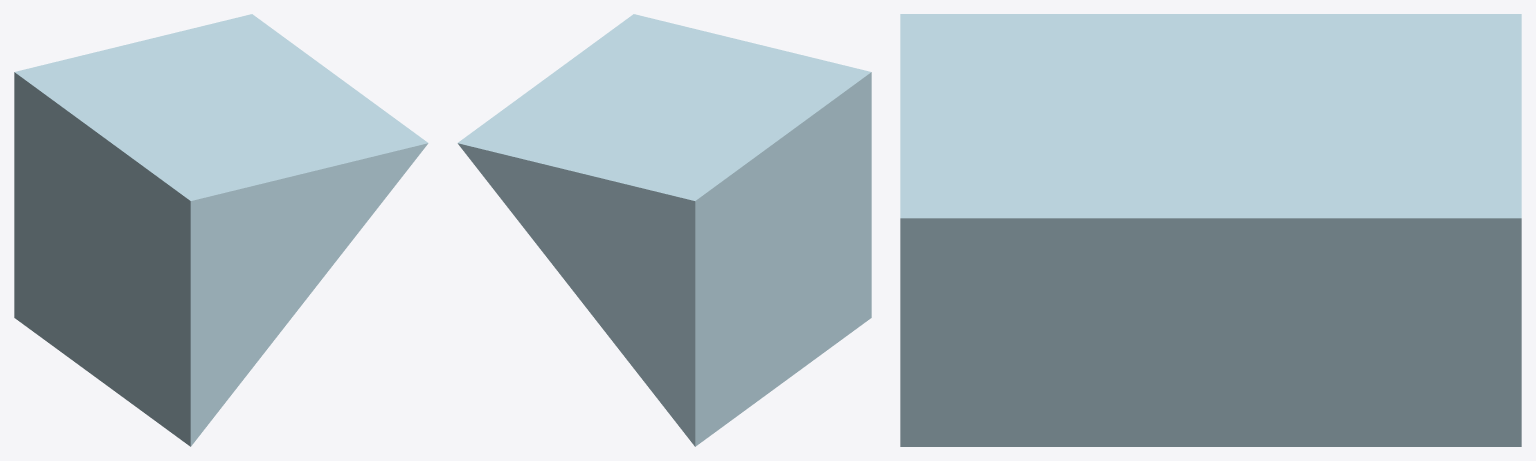
The model's file is Filler.fbx.
The picture shows the model from 3 angles, left to right: view 1: azimuth 30°, elevation 25°; view 2: azimuth 150°, elevation 25°; view 3: azimuth 270°, elevation 25°; orthographic projection. The views are drawn at different scales.
Parts seen in each view (by area): view 1: root; view 2: root; view 3: root.
Part boxes in pixels (bbox=[...]): root: bbox=[14, 14, 428, 446]; root: bbox=[457, 14, 871, 446]; root: bbox=[900, 14, 1521, 446].
Bounding box in the file's own units: 77.83 × 76.87 × 100.
1 material, 1 textured.
